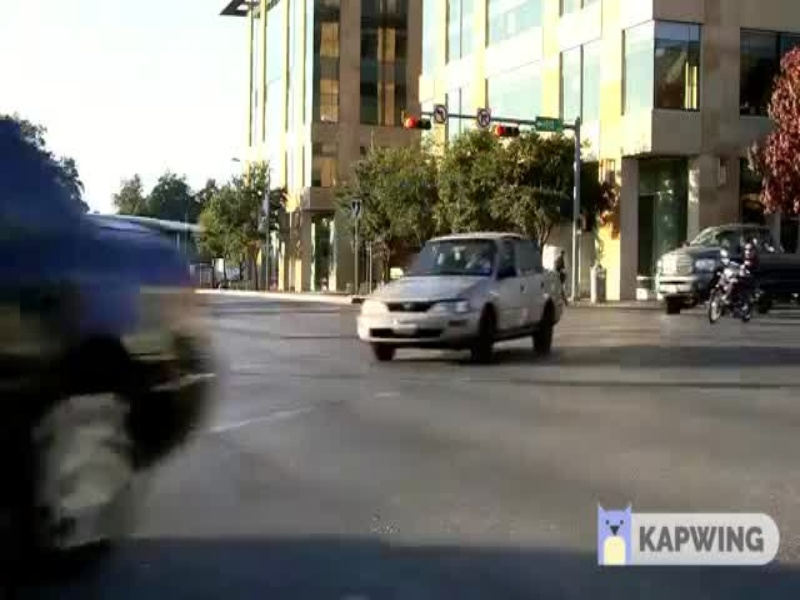car: (353, 228, 572, 379)
motorcycle: (704, 245, 763, 324)
